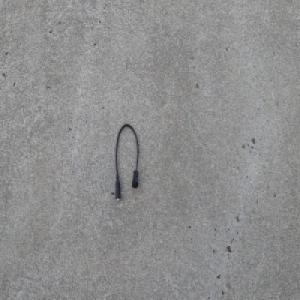Wire: (113, 120, 139, 202)
